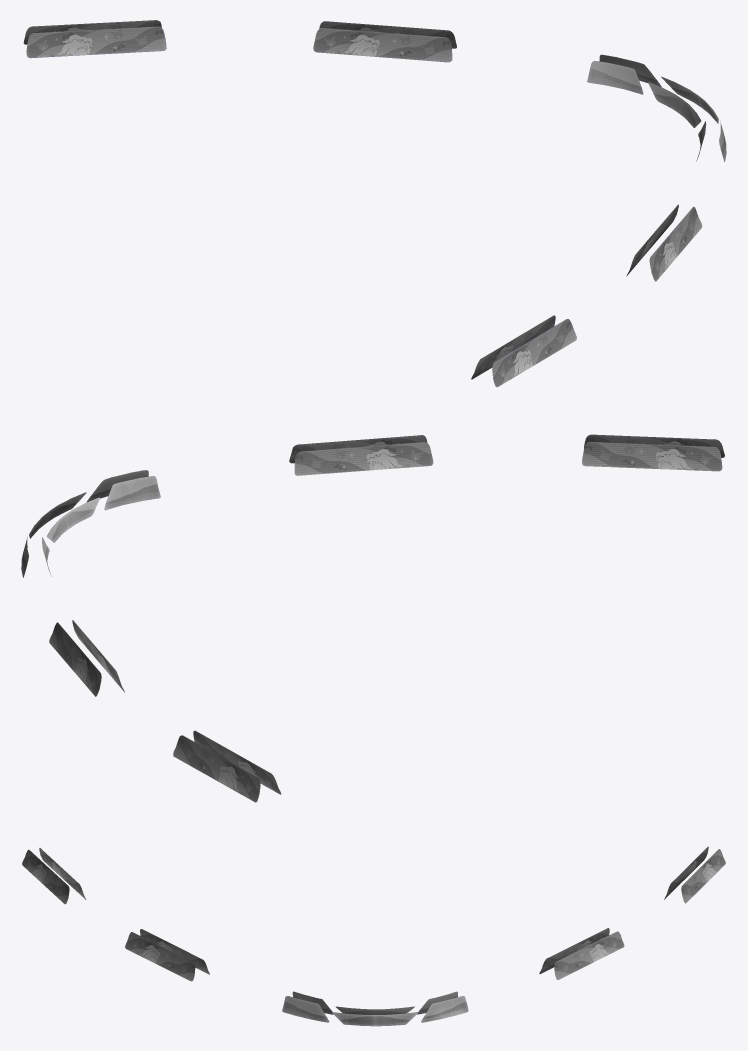
The model's file is pref_sm_4v4beachtech_WSJ_bk_centerblock_L01a_lv2.fbx.
The picture shows the model from 3 angles, top to bottom: view 1: azimuth 30°, elevation 25°; view 2: azimuth 150°, elevation 25°; view 3: azimuth 270°, elevation 25°; orthographic projection. The views are drawn at different scales.
Parts seen in each view (by area): view 1: pref_sm_4v4beachtech_WSJ_bk_centerblock_L01a_lv2; view 2: pref_sm_4v4beachtech_WSJ_bk_centerblock_L01a_lv2; view 3: pref_sm_4v4beachtech_WSJ_bk_centerblock_L01a_lv2.
Part boxes in pixels (box(x1,y1,x2,y2)): pref_sm_4v4beachtech_WSJ_bk_centerblock_L01a_lv2: box(23, 20, 726, 387); pref_sm_4v4beachtech_WSJ_bk_centerblock_L01a_lv2: box(21, 434, 724, 802); pref_sm_4v4beachtech_WSJ_bk_centerblock_L01a_lv2: box(22, 846, 725, 1026).
Bounding box in the file's own units: 22.24 × 1.64 × 38.87.
Materials: 1 (1 with a texture image).
